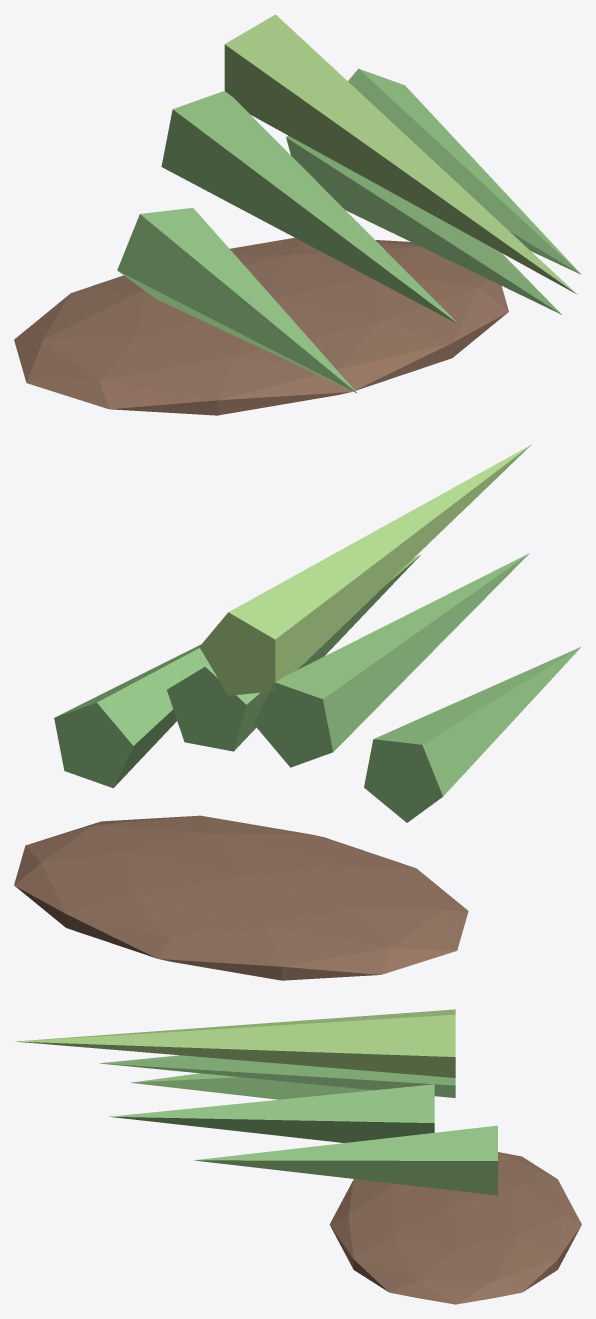
Rendered from env_grass_tuft_v1.glb.
3 views of the same model, one above another, from view 1: azimuth 30°, elevation 25°; view 2: azimuth 150°, elevation 25°; view 3: azimuth 270°, elevation 25° (orthographic). The views are drawn at different scales.
Visible parts, largest first — view 1: grass_base_shadow, grass_blade_1, grass_blade_0, grass_blade_3, grass_blade_2, grass_blade_4; view 2: grass_base_shadow, grass_blade_1, grass_blade_0, grass_blade_3, grass_blade_4, grass_blade_2; view 3: grass_base_shadow, grass_blade_1, grass_blade_4, grass_blade_2, grass_blade_0, grass_blade_3.
Boxes of the visible parts, x1,y1,x2,y2 form: grass_base_shadow: (14,237,508,415); grass_blade_1: (224,14,577,294); grass_blade_0: (161,91,458,324); grass_blade_3: (117,208,357,393); grass_blade_2: (286,135,561,314); grass_blade_4: (348,68,581,274); grass_base_shadow: (14,815,468,980); grass_blade_1: (199,444,531,695); grass_blade_0: (254,553,529,767); grass_blade_3: (364,647,580,822); grass_blade_4: (54,644,209,788); grass_blade_2: (167,554,420,751); grass_base_shadow: (329,1152,581,1304); grass_blade_1: (15,1009,455,1077); grass_blade_4: (194,1125,497,1195); grass_blade_2: (109,1084,434,1142); grass_blade_0: (99,1055,455,1097); grass_blade_3: (130,1073,372,1099).
Bounding box in the file's own units: 0.36 × 0.2433 × 0.54.
